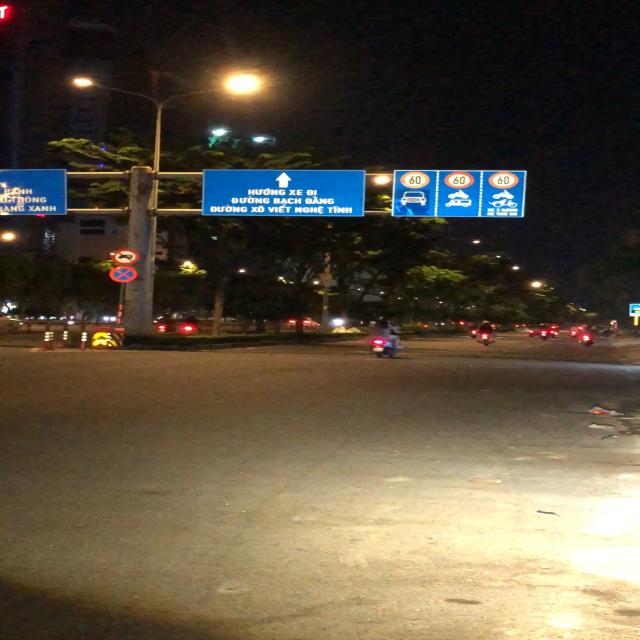Bien bao cam dung xe va do xe: (110, 266, 140, 283)
Bien bao cam xe oto tai: (108, 248, 144, 266)
Bien bao toc do toi da cho phep: (397, 171, 430, 189), (443, 171, 474, 189), (488, 172, 520, 189)
